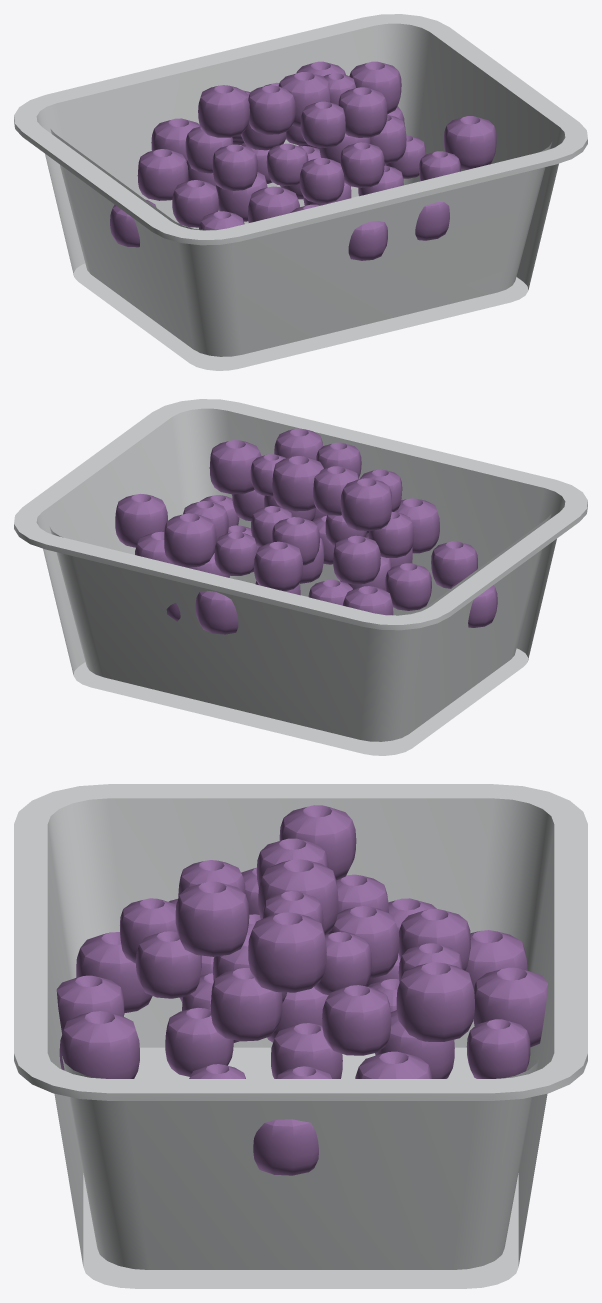
3 views of the same model, one above another, from view 1: azimuth 30°, elevation 25°; view 2: azimuth 150°, elevation 25°; view 3: azimuth 270°, elevation 25° (orthographic). The views are drawn at different scales.
Parts seen in each view (by area): view 1: blueberries-punnet; view 2: blueberries-punnet; view 3: blueberries-punnet.
Boxes of the visible parts, <box> form: blueberries-punnet: <box>14,14,587,370</box>; blueberries-punnet: <box>14,399,587,755</box>; blueberries-punnet: <box>14,784,587,1288</box>.
Size of the model in its own units: 0.13 by 0.0599 by 0.102.
